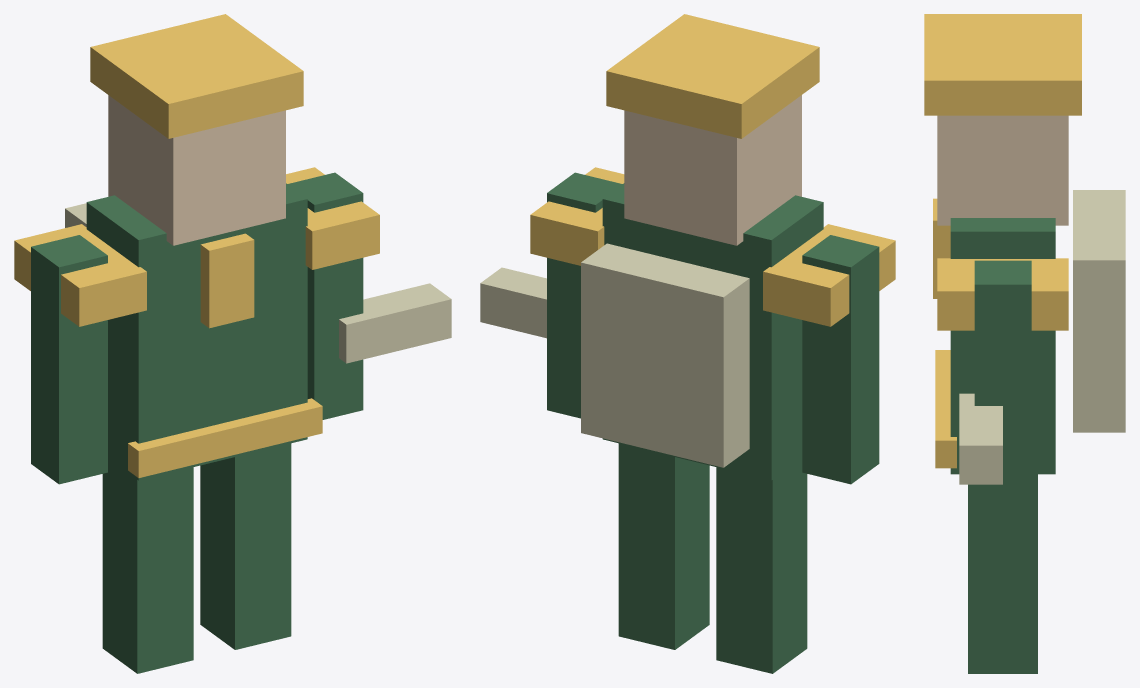
The model's file is 08_dax_glassroot_courier_under_silent.glb.
3 renders of one model, left to right at view 1: azimuth 30°, elevation 25°; view 2: azimuth 150°, elevation 25°; view 3: azimuth 270°, elevation 25°, orthographic.
Visible parts, largest first — view 1: Dax Glassroot, Courier under Silent; view 2: Dax Glassroot, Courier under Silent; view 3: Dax Glassroot, Courier under Silent.
Part boxes in pixels (x1,y1,x2,y2): Dax Glassroot, Courier under Silent: [14, 14, 451, 673]; Dax Glassroot, Courier under Silent: [480, 14, 895, 673]; Dax Glassroot, Courier under Silent: [924, 14, 1125, 673].
Size of the model in its own units: 1.06 by 1.54 by 0.4774.
